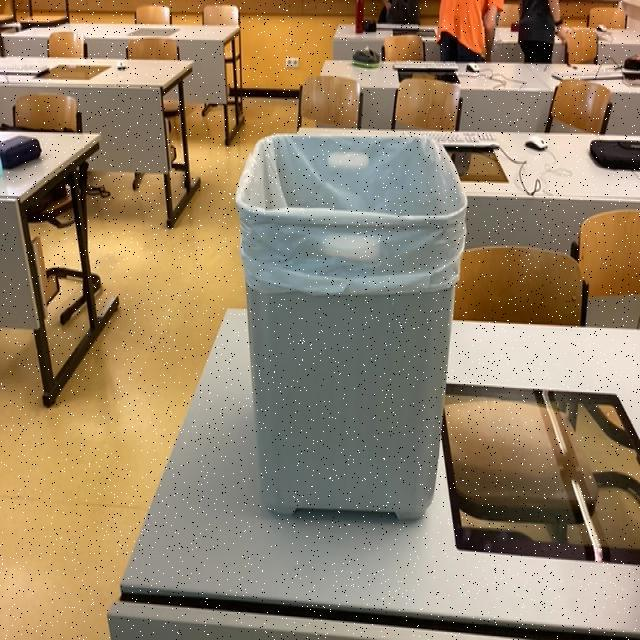garbage container: (215, 79, 481, 544)
